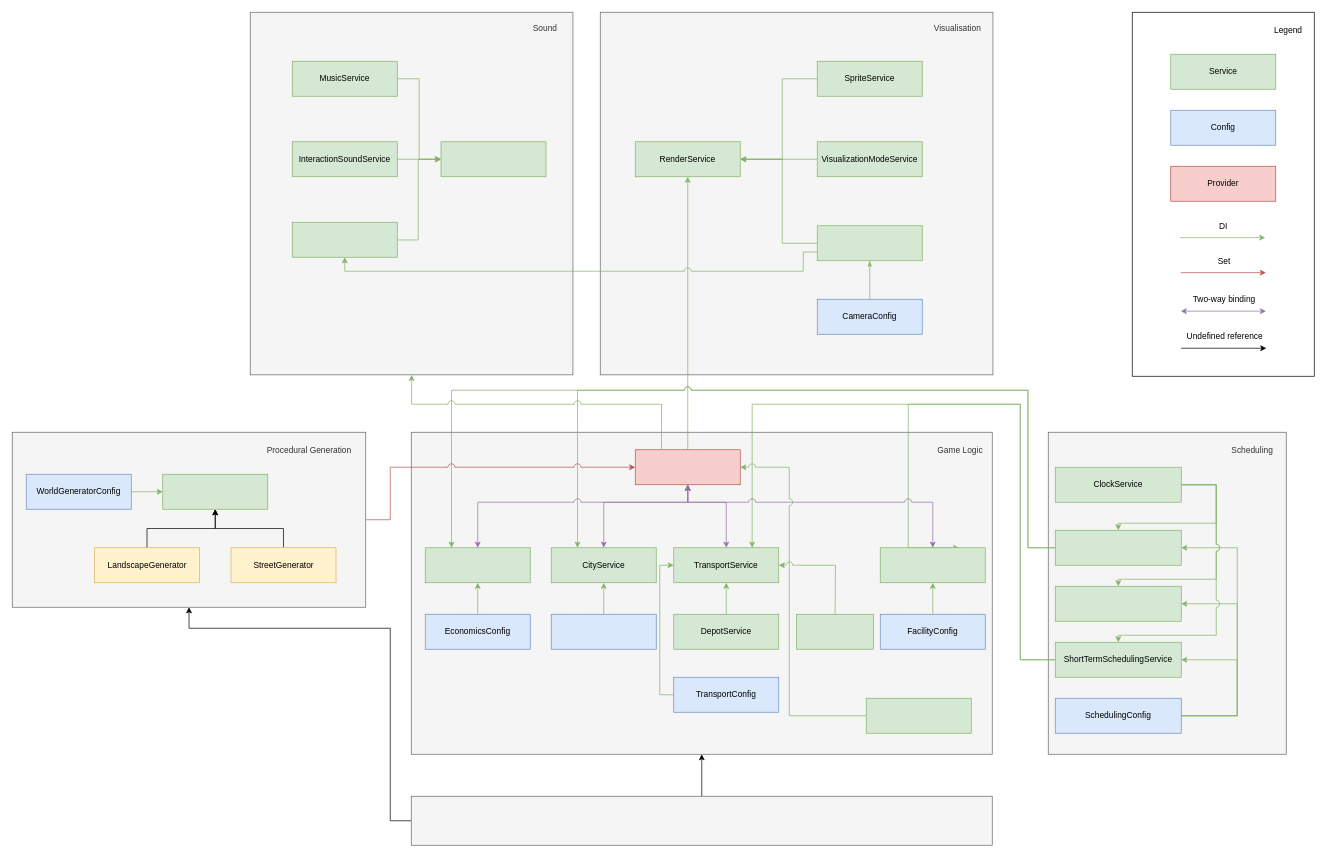
Some shapes in this 1327 by 858 pixel diagram are drawn without their labels. Here are the shapes that lost their labels. From the top down, the centre of each, then its label:
[493,159]: SoundMixerService
[344,239]: AmbientSoundService
[869,243]: CameraService
[687,467]: GameStateProvider
[215,491]: WorldGeneratorService
[477,565]: EconomicsService
[932,565]: FacilityService
[1118,547]: LongTermSchedulingService
[1118,603]: MiddleTermSchedulingService
[603,631]: CityConfig
[835,631]: RouteService
[918,715]: UserSettingsService
[701,820]: User Input
